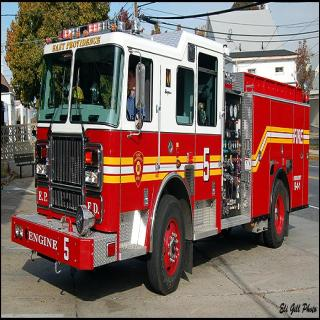Fire_truck: (11, 17, 311, 296)
